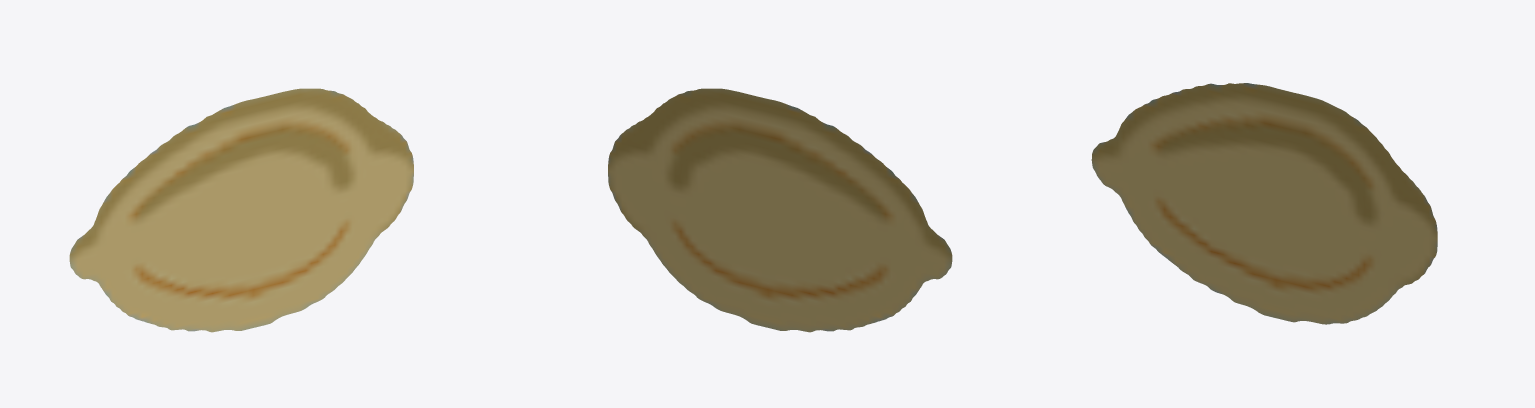
The model's file is nangua_bullet_wood.FBX.
3 renders of one model, left to right at view 1: azimuth 30°, elevation 25°; view 2: azimuth 150°, elevation 25°; view 3: azimuth 330°, elevation 25°, orthographic.
Visible parts, largest first — view 1: bullet_wood; view 2: bullet_wood; view 3: bullet_wood.
Part boxes in pixels (x1=…): bullet_wood: x1=69, y1=88, x2=413, y2=332; bullet_wood: x1=608, y1=88, x2=952, y2=332; bullet_wood: x1=1091, y1=83, x2=1437, y2=324.
Size of the model in its own units: 68.89 by 51.7 by 1.32e-05.
